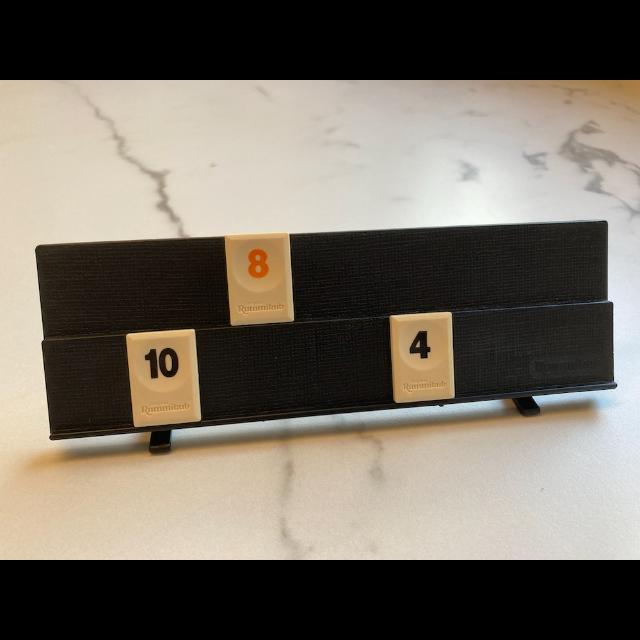black_10: (126, 329, 201, 428)
black_4: (390, 313, 455, 404)
orange_8: (225, 232, 293, 325)
